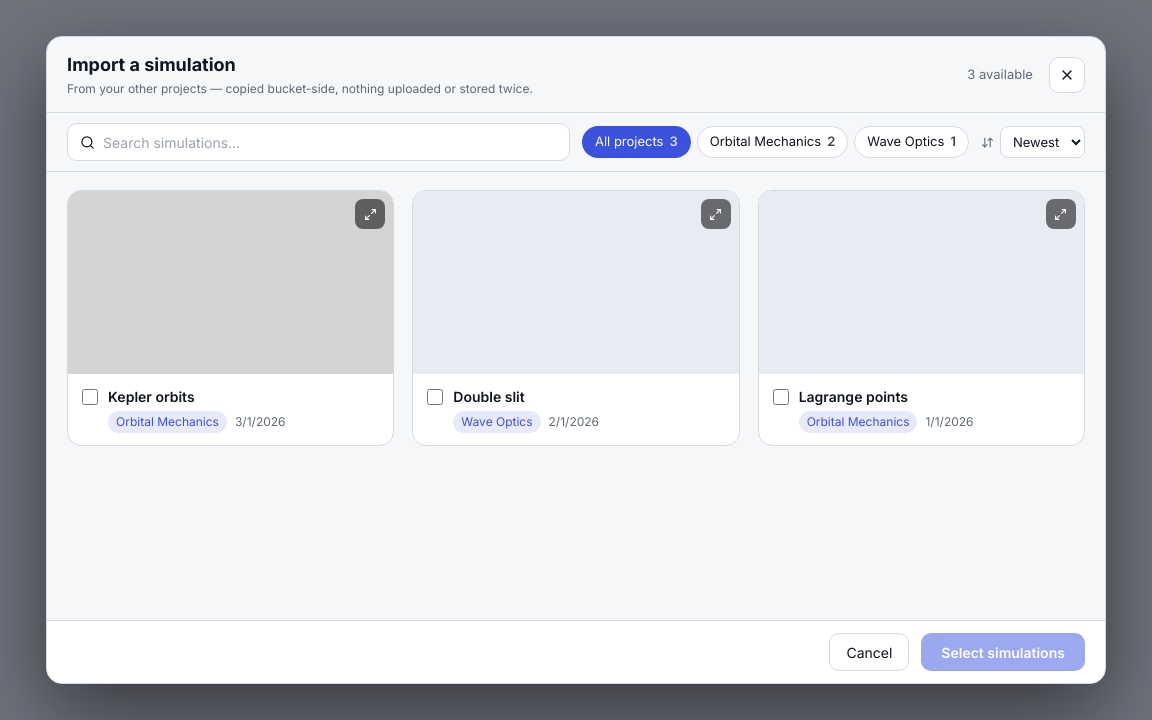
search and project pills › matches the project name too, and a pill narrows to one project
The width and height of the screenshot is (1152, 720).
expect the text "Kepler orbits" is shown: met, box x1=108 y1=388 x2=195 y2=405
In the search field labelled "Search simulations…": {"x": 330, "y": 142} x1=103 y1=132 x2=557 y2=152, type "optics"
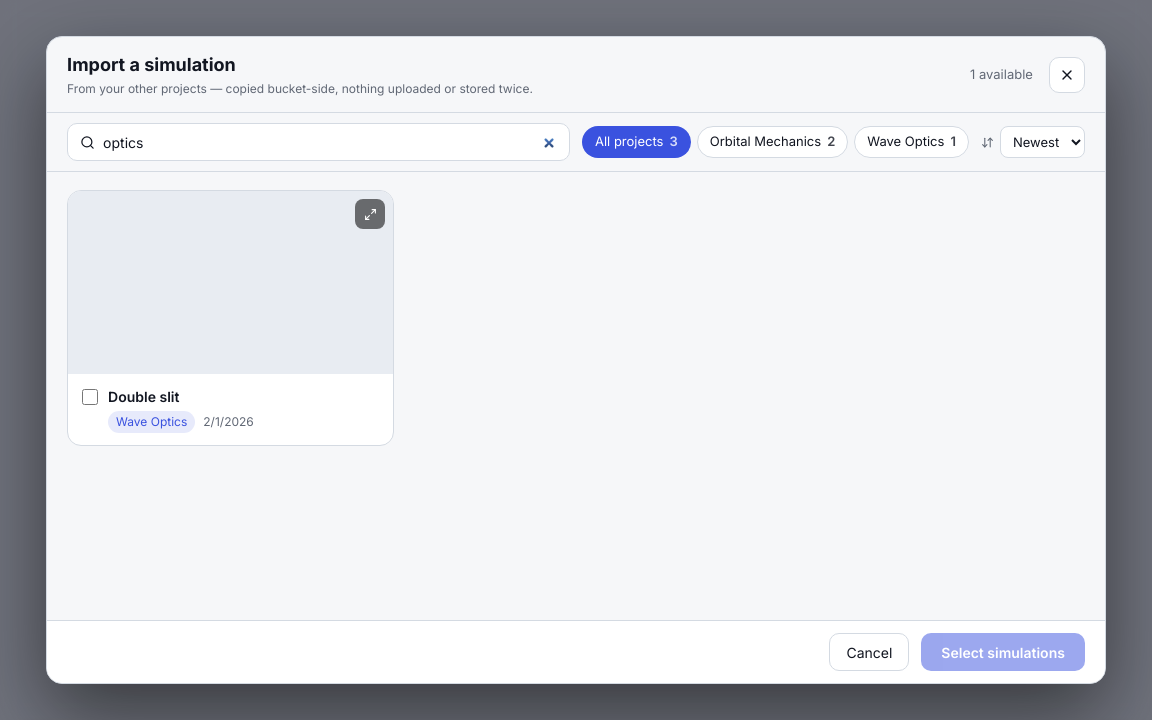
expect the text "Double slit" is shown: met, box x1=108 y1=388 x2=180 y2=405
expect the text "Kepler orbits" is gone: met
Clear the search field named "Search simulations": {"x": 330, "y": 142} x1=103 y1=132 x2=557 y2=152
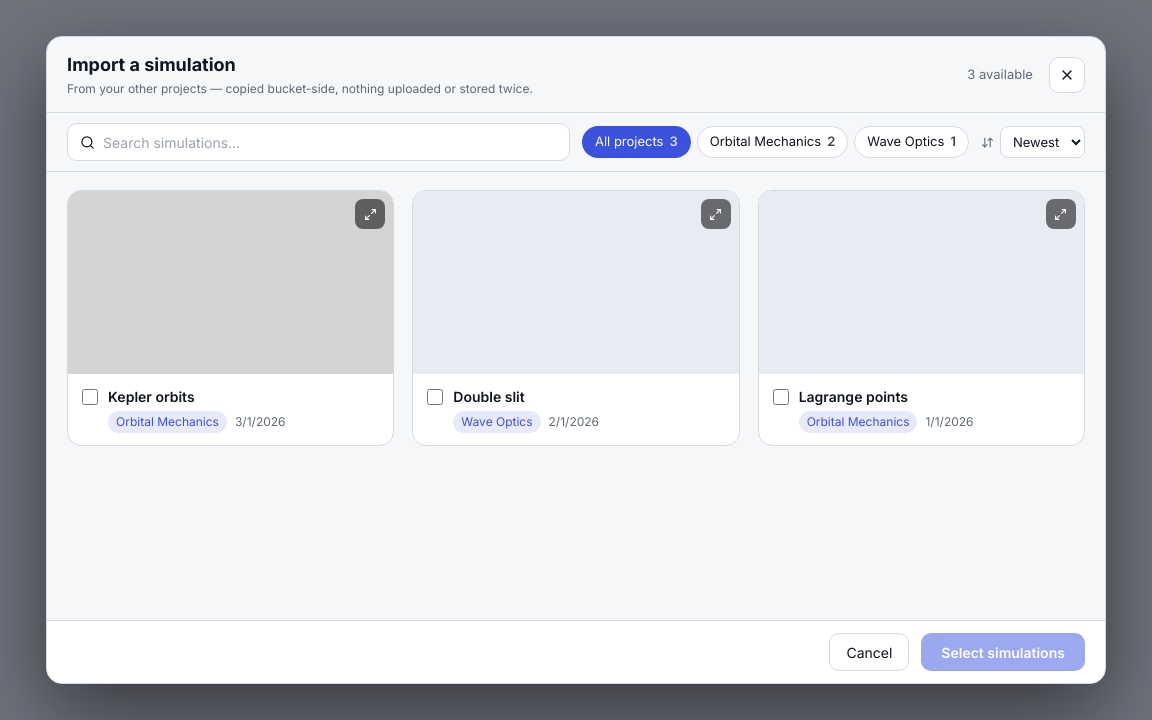
Click the button "Orbital Mechanics 2": {"x": 772, "y": 142} x1=697 y1=126 x2=848 y2=158
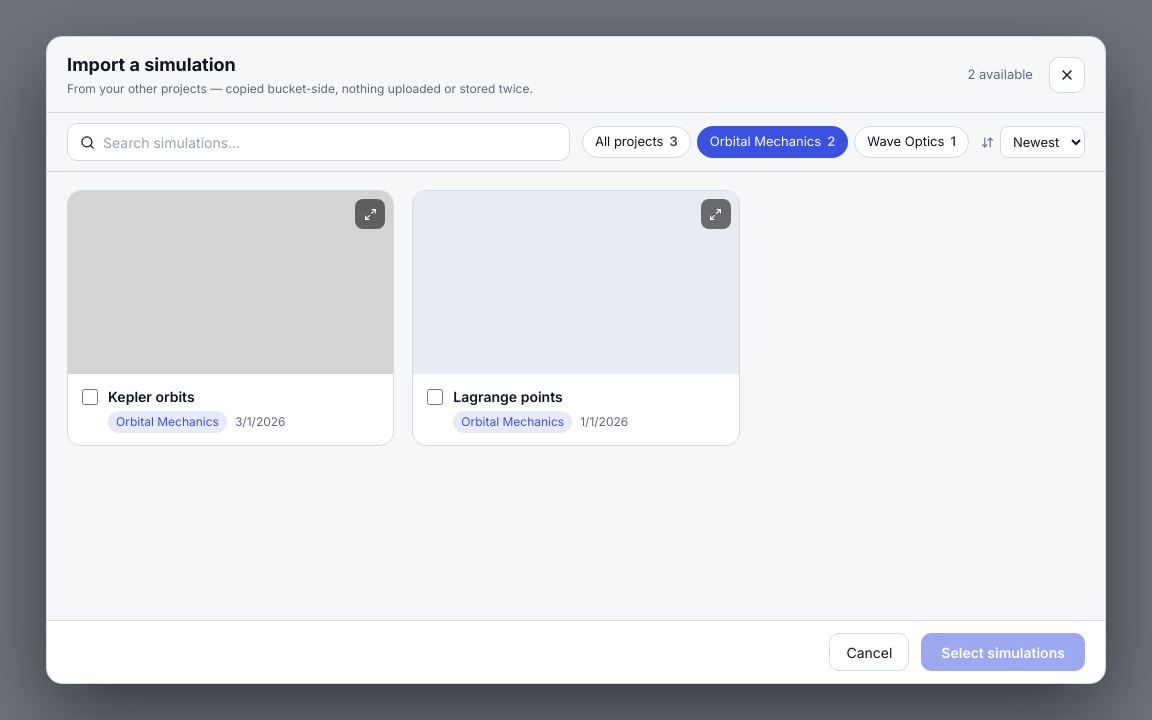
expect the text "Kepler orbits" is shown: met, box x1=108 y1=388 x2=195 y2=405
expect the text "Double slit" is gone: met
